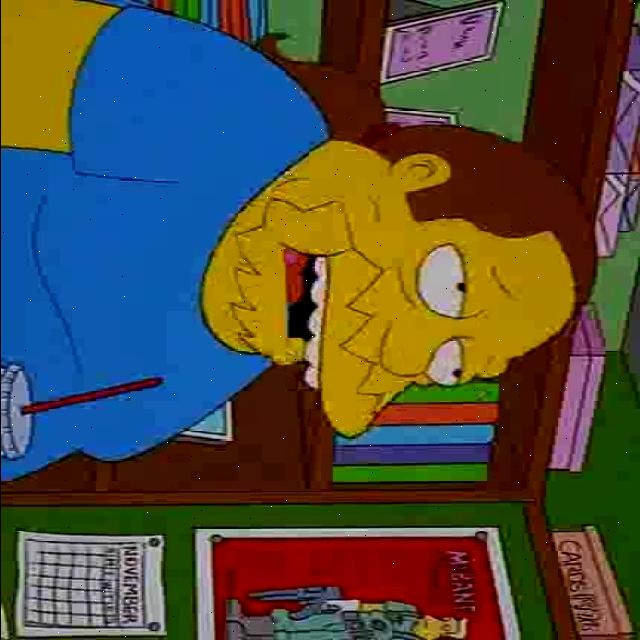Comic Book Guy: (193, 106, 601, 442)
